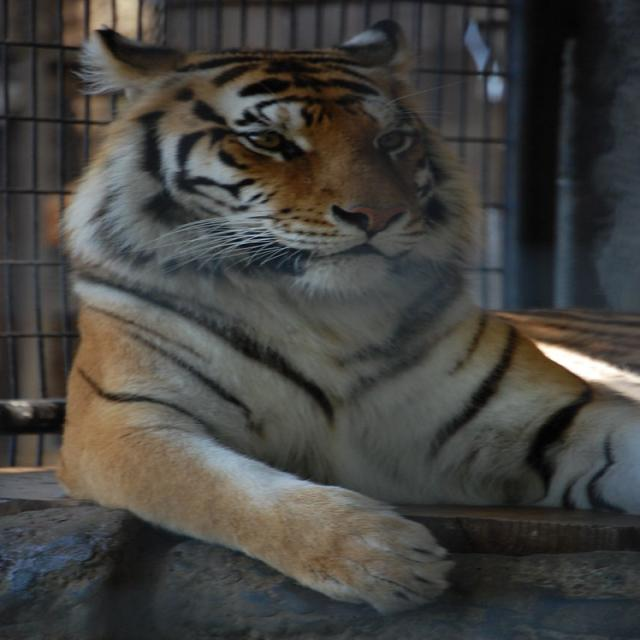Tiger: (56, 23, 639, 614)
